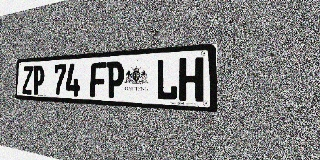4: (66, 63, 80, 96)
7: (53, 64, 66, 96)
F: (90, 62, 106, 98)
H: (179, 57, 204, 102)
L: (156, 58, 178, 101)
P: (106, 61, 124, 98), (33, 65, 44, 95)
Z: (22, 66, 33, 94)
